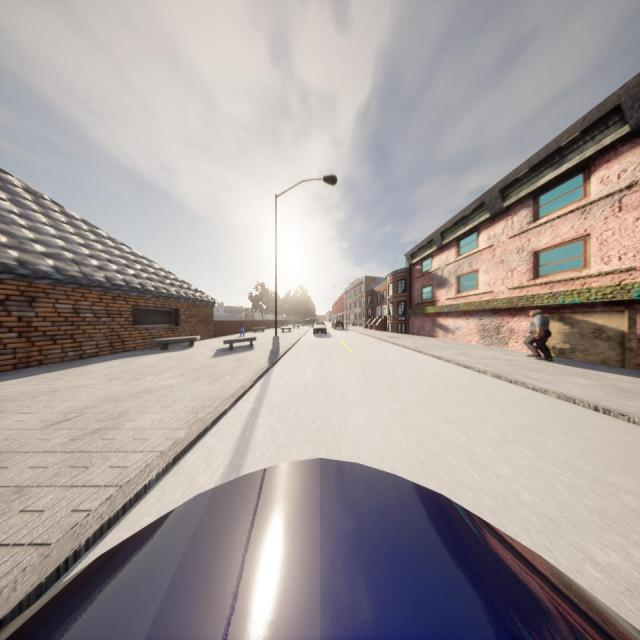Pedestrian: (524, 309, 552, 361), (238, 321, 245, 338)
Vehicle: (0, 457, 640, 640), (313, 320, 328, 336), (332, 318, 344, 330)
